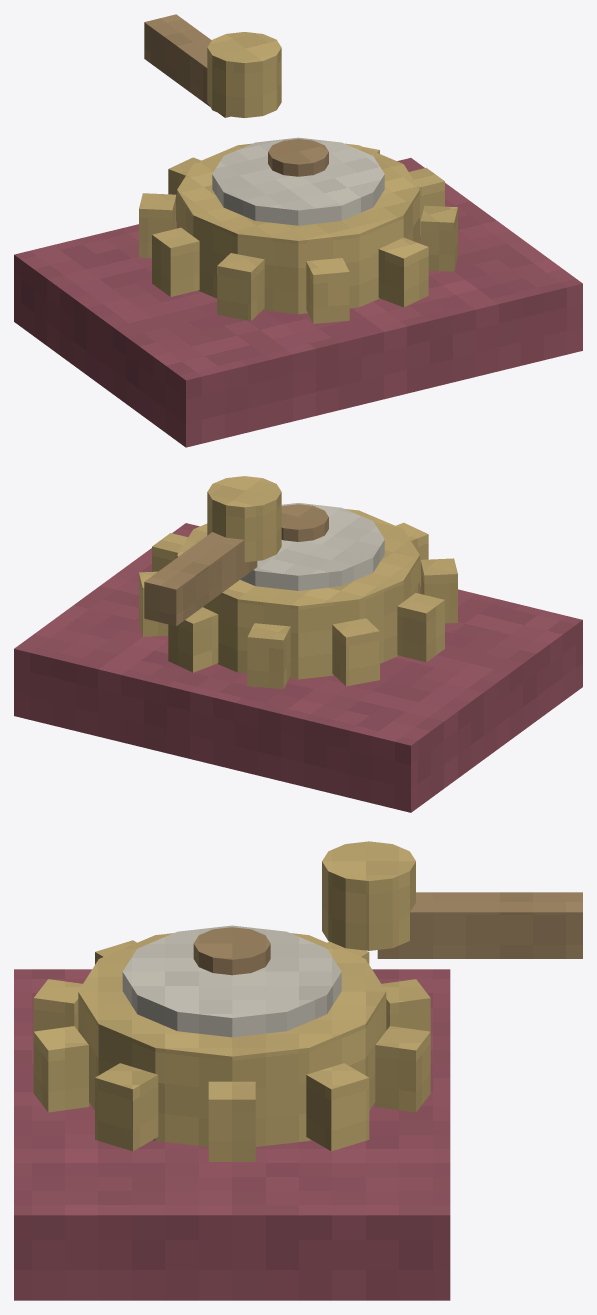
File: level_blockout_relic_mourning_locket.glb
3 renders of one model, top to bottom at view 1: azimuth 30°, elevation 25°; view 2: azimuth 150°, elevation 25°; view 3: azimuth 270°, elevation 25°, orthographic. The views are drawn at different scales.
Parts seen in each view (by area): view 1: level_blockout_relic_mourning_locket; view 2: level_blockout_relic_mourning_locket; view 3: level_blockout_relic_mourning_locket.
Boxes of the visible parts, box(x1,y1,x2,y2) form: level_blockout_relic_mourning_locket: box(14, 14, 582, 447); level_blockout_relic_mourning_locket: box(14, 476, 582, 812); level_blockout_relic_mourning_locket: box(14, 841, 582, 1300).
Bounding box in the file's own units: 0.68 × 0.408 × 0.665.
Materials: 4 (4 with a texture image).
